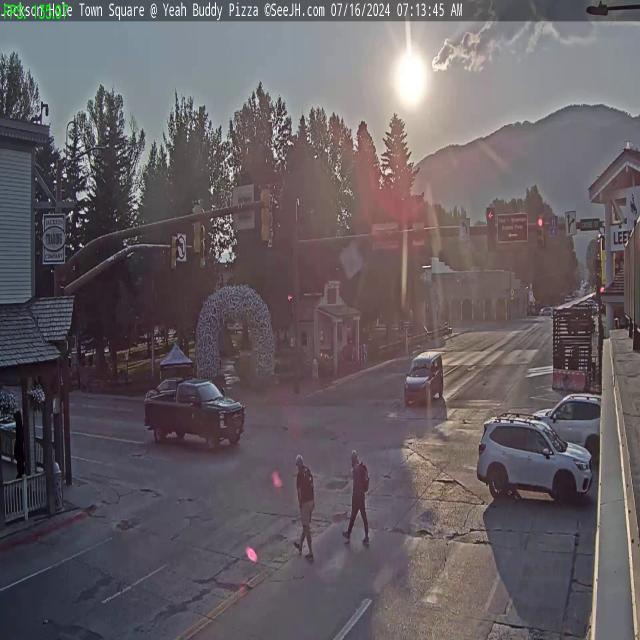minivan: (400, 351, 445, 408)
person: (296, 452, 314, 548), (349, 448, 368, 538)
pickup: (142, 377, 249, 454)
suv: (472, 419, 587, 495), (534, 386, 600, 456)
traffic light: (190, 198, 203, 255), (261, 184, 273, 244), (486, 208, 496, 251), (167, 236, 178, 270), (536, 215, 545, 248)
